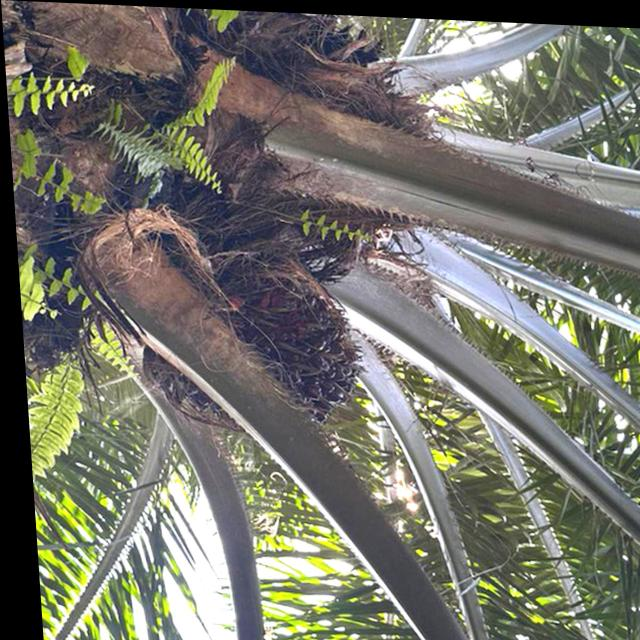ripe: (127, 235, 380, 439)
